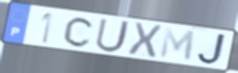1: (41, 12, 55, 44)
C: (62, 16, 97, 49)
J: (195, 32, 228, 66)
M: (158, 26, 197, 63)
U: (94, 17, 132, 54)
X: (126, 21, 164, 59)
